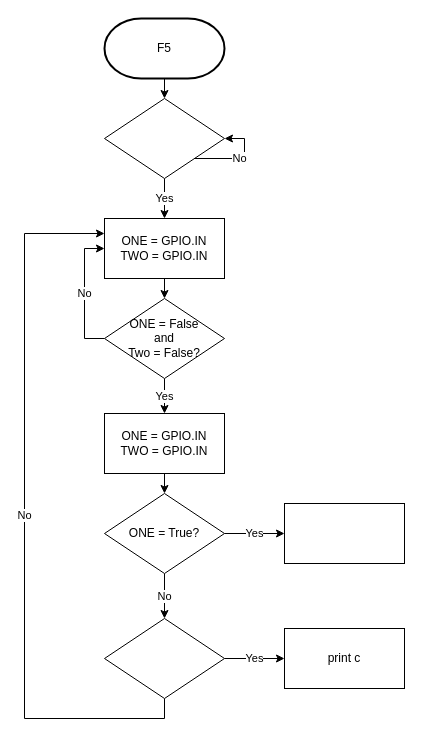
The diagram is 422 pixels wide and 744 high, and some of its shapes have lost their labels. The centre of each missing label's shape, as x and y in pixels:
"print cc" goes at [344,533].
"True?" goes at [164,138].
"TWO = True?" goes at [164,658].
